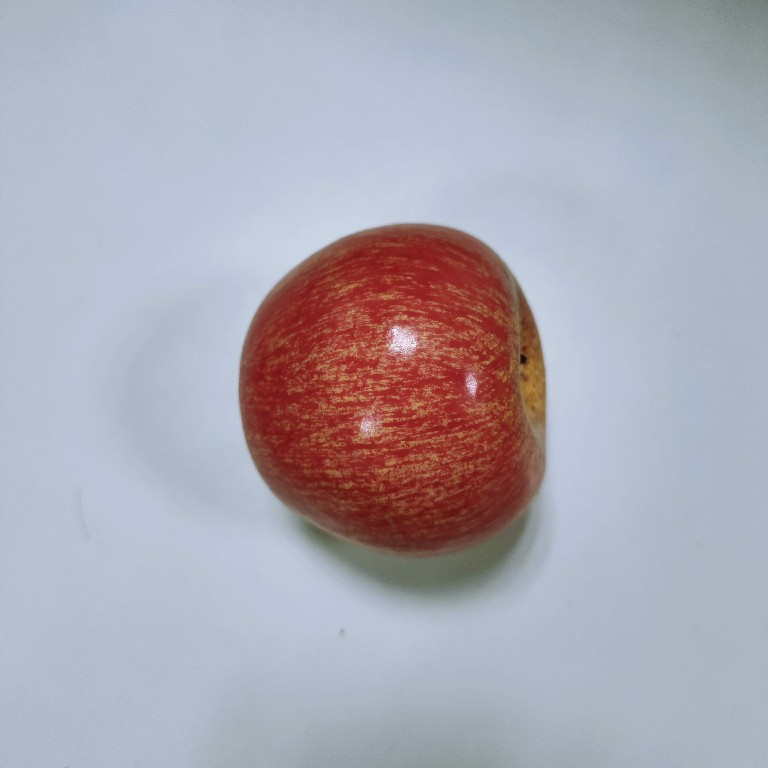fruit_apple: (232, 218, 553, 561)
